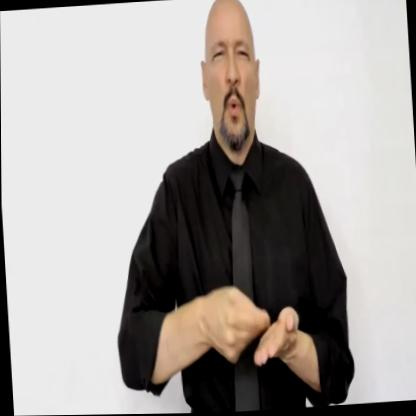Expensive: (190, 253, 304, 390)
